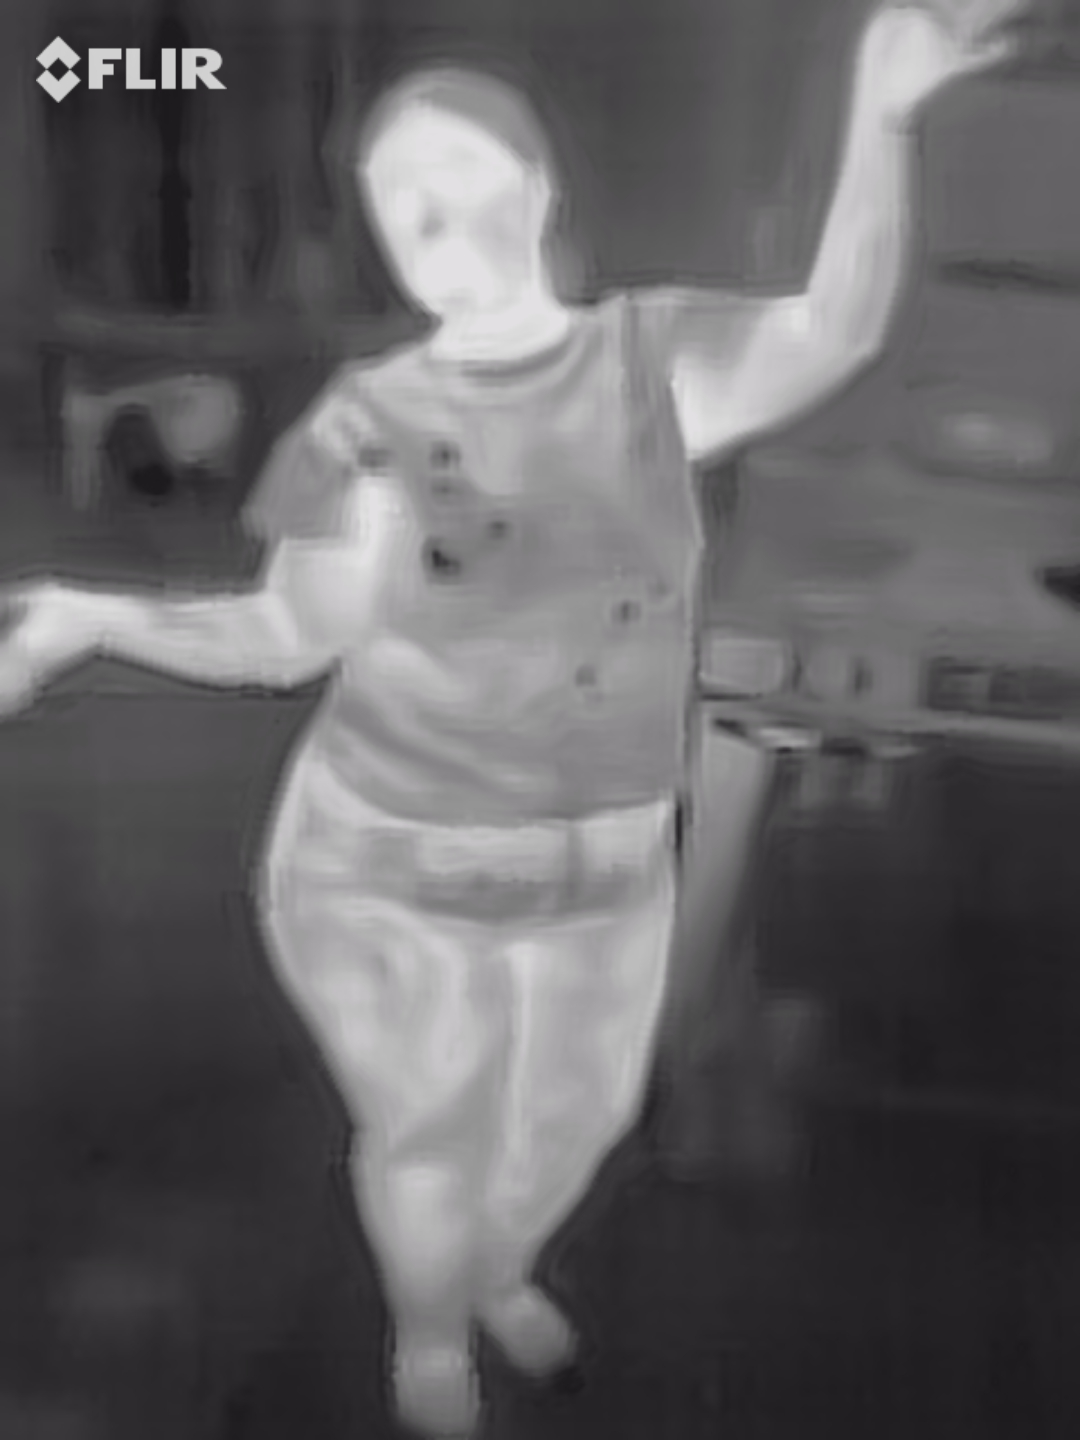head: (360, 66, 555, 337)
